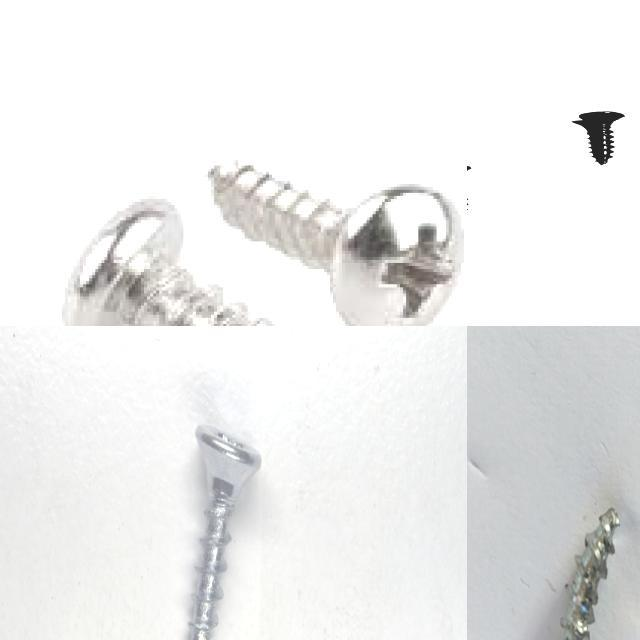Screw: (205, 159, 467, 326), (62, 196, 269, 326), (189, 424, 262, 640), (561, 507, 619, 640), (574, 111, 626, 164)
